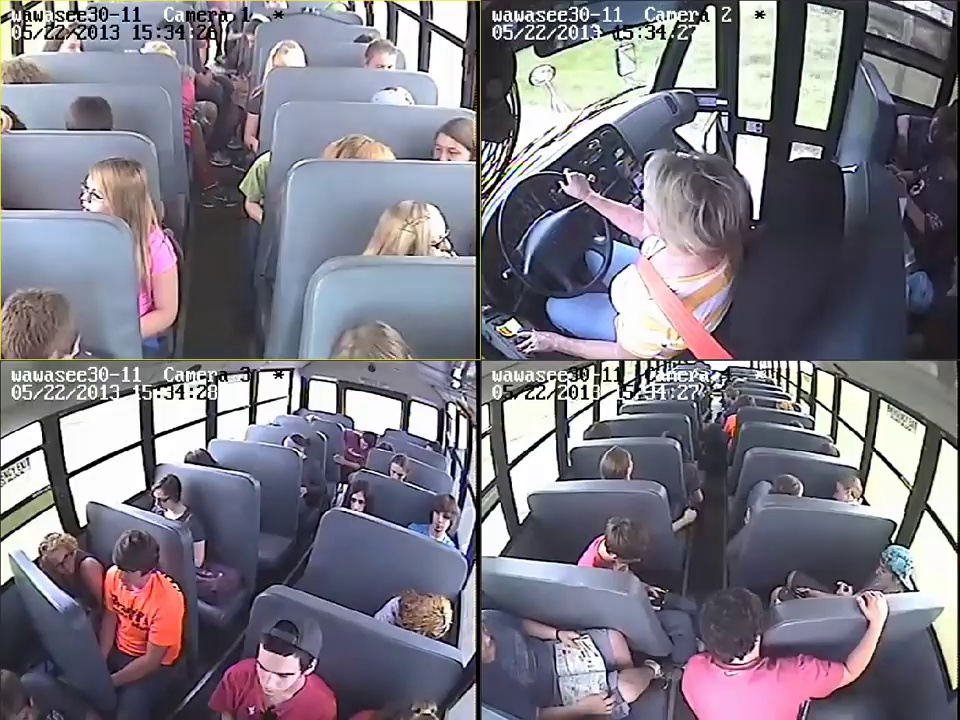face: (253, 640, 299, 706), (405, 217, 459, 256), (74, 168, 112, 219), (44, 545, 75, 577), (434, 506, 454, 538), (347, 483, 368, 512), (152, 484, 174, 511)
